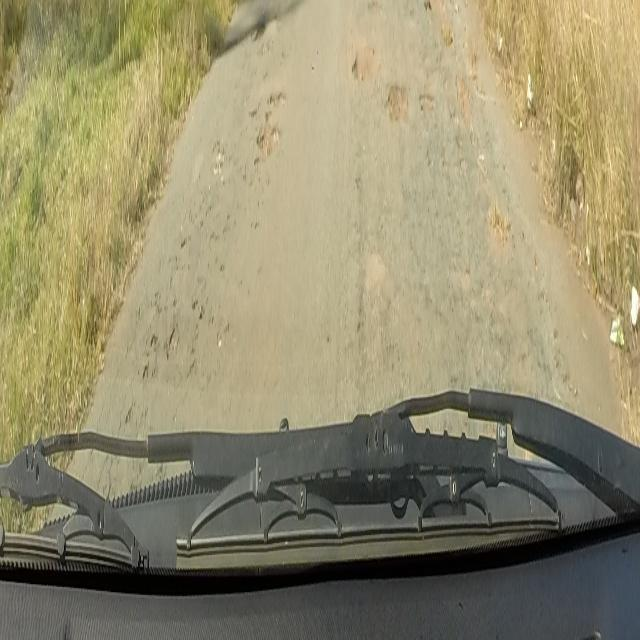pothole: (346, 47, 445, 145), (254, 83, 286, 156), (418, 0, 446, 25)
